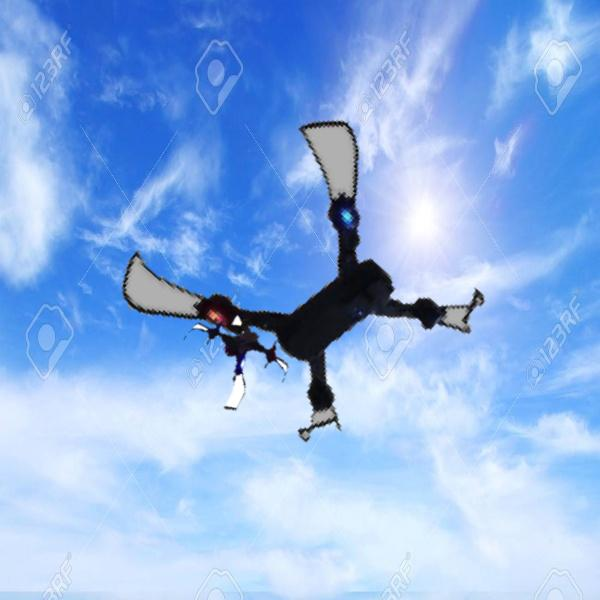drone: (151, 129, 466, 444), (176, 304, 290, 418)
